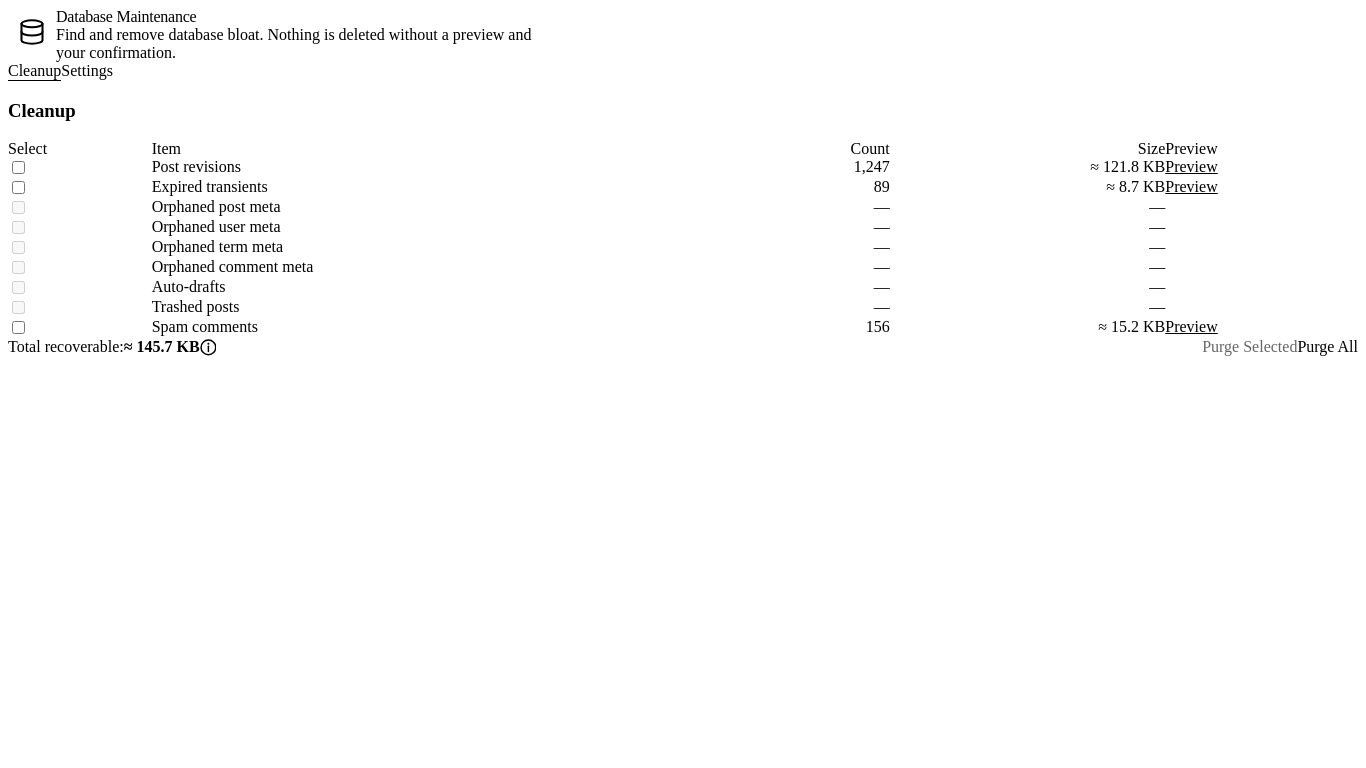
Scenario: CleanupView › disables purge buttons and offers Cancel while a purge is running
What coordinates should you click on to do the following:
click the button "Purge All"
I would click on:
 (1328, 347)
Its box is x1=1297 y1=338 x2=1358 y2=356.
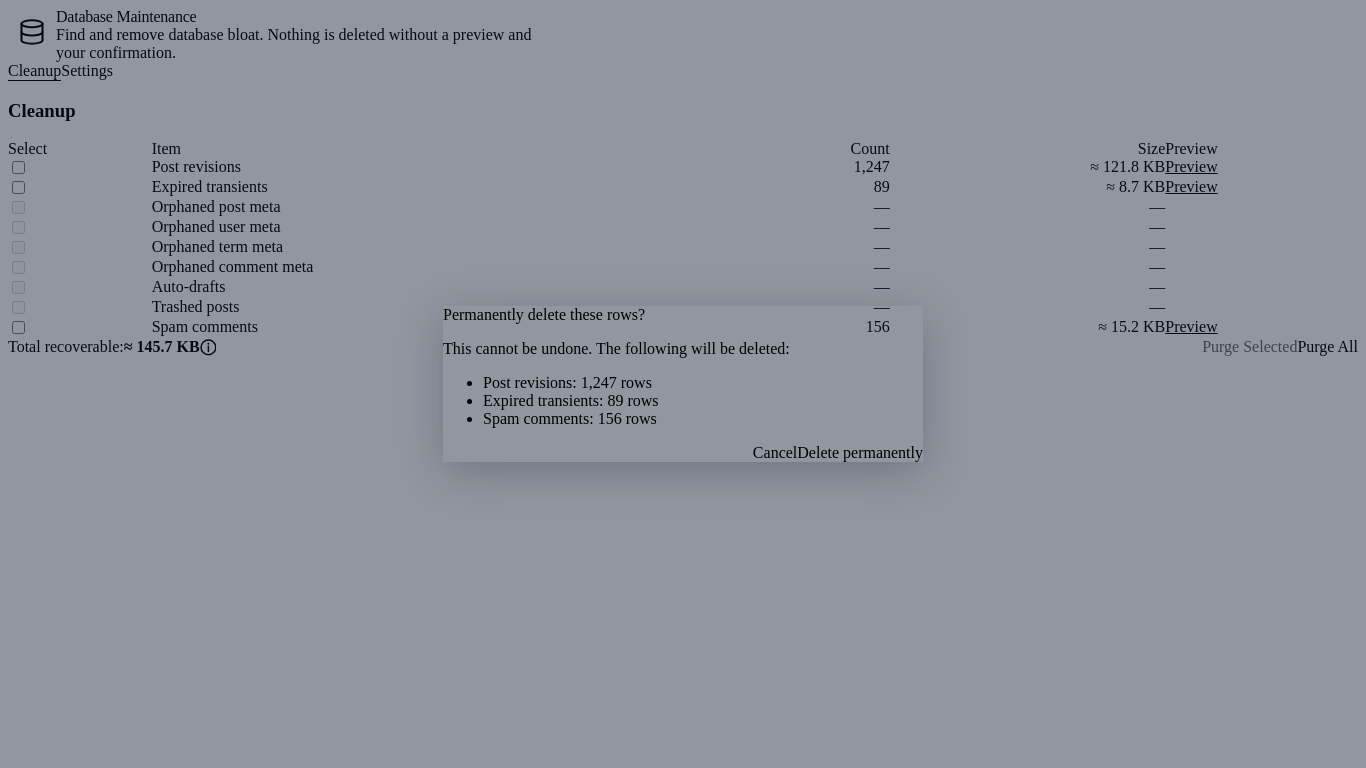
What coordinates should you click on to do the following:
click the button with class "fx-confirm__confirm"
I would click on:
 (860, 453)
Its box is x1=797 y1=444 x2=923 y2=462.
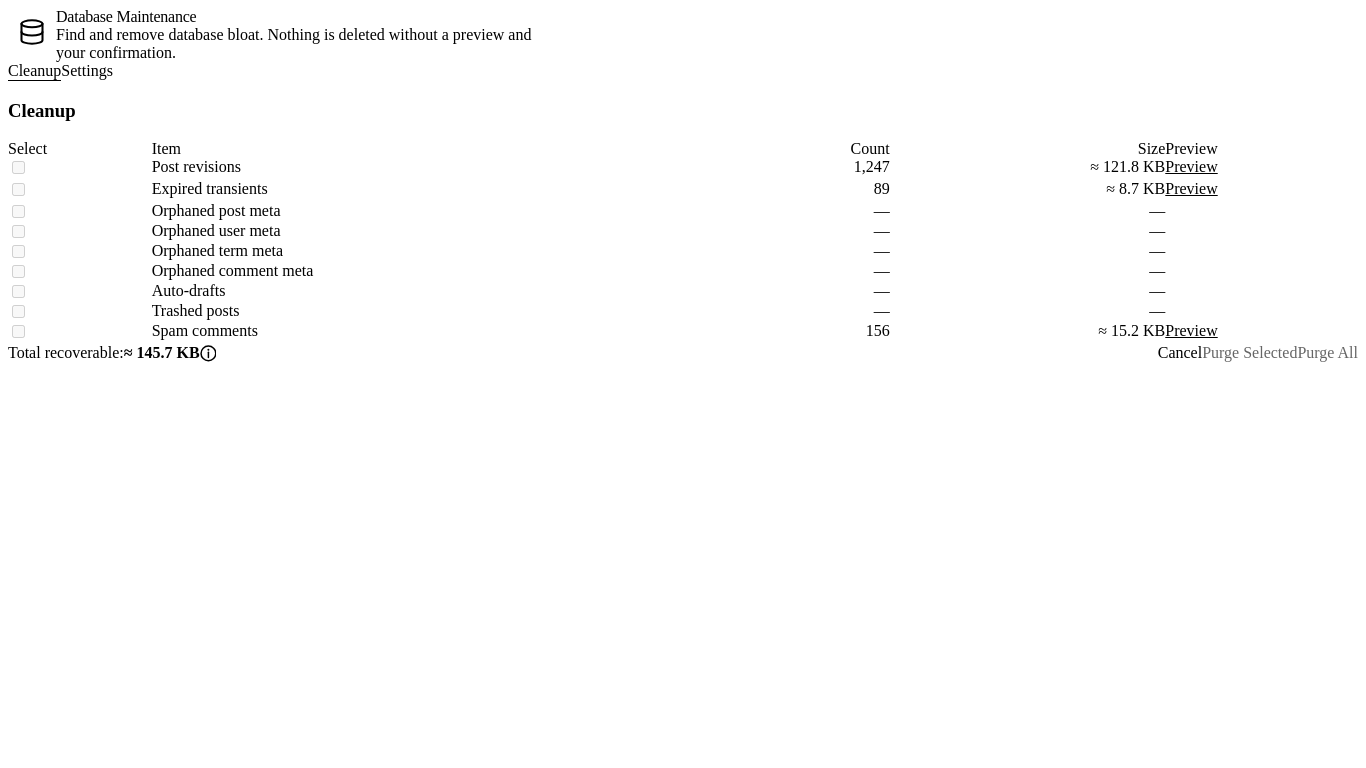
Expected: the button "Purge Selected" is disabled, x1=1202 y1=344 x2=1297 y2=362
Expected: the button "Cancel" is shown
Expected: the button "Purge All" is disabled, x1=1297 y1=344 x2=1358 y2=362
What coordinates should you click on to do the following:
click the button "Cancel"
I would click on:
 (1180, 353)
Its box is x1=1158 y1=344 x2=1202 y2=362.
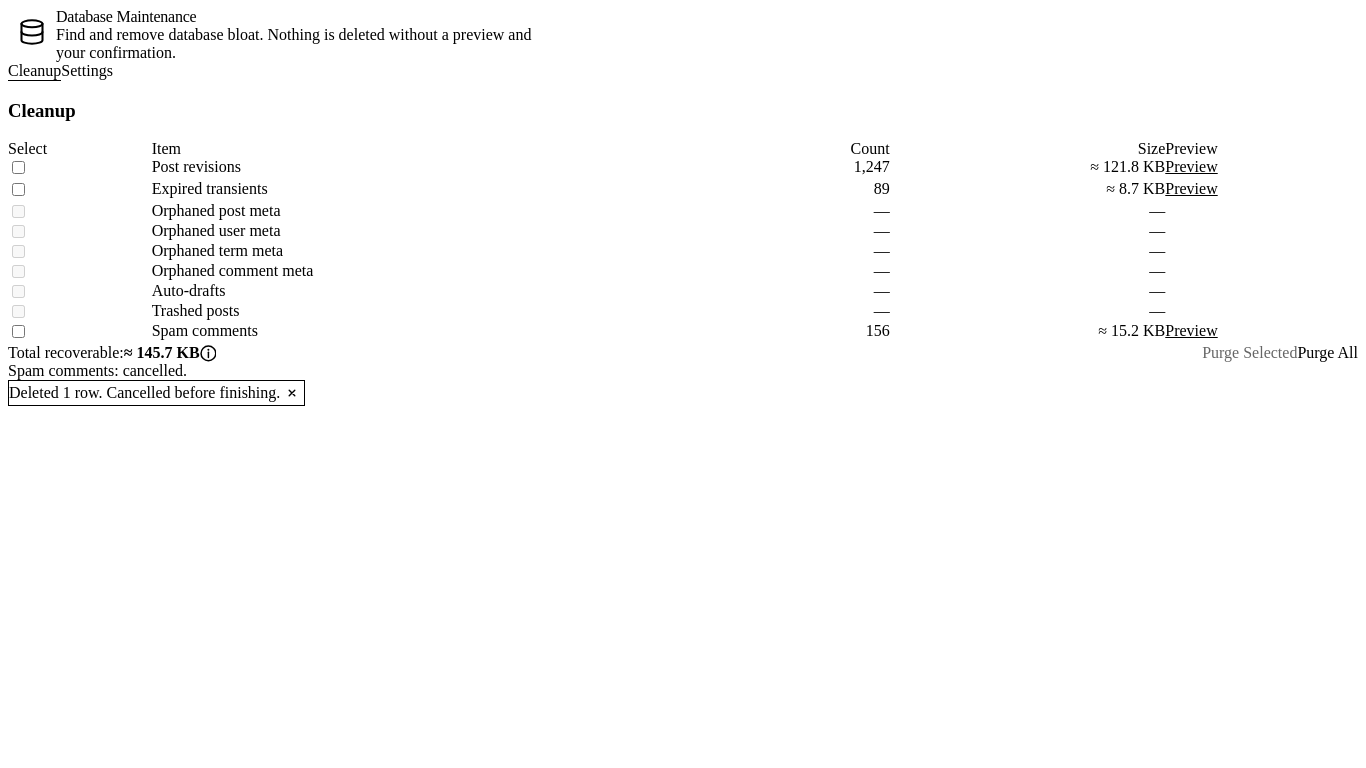
Expected: the button "Purge All" is enabled, x1=1297 y1=344 x2=1358 y2=362
Expected: the message "Spam comments: cancelled." is shown, x1=8 y1=362 x2=187 y2=379
